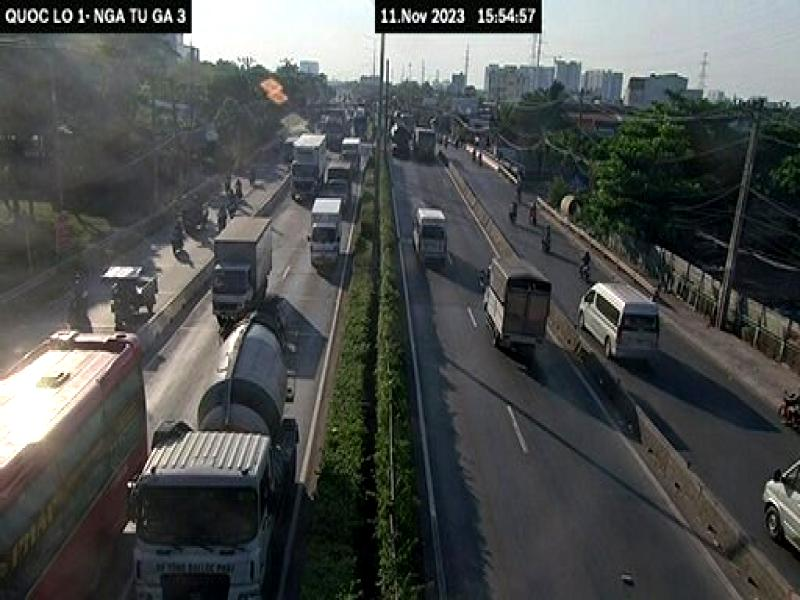bus: (0, 327, 153, 600)
truck: (132, 302, 304, 600), (210, 212, 275, 326), (482, 255, 552, 360), (308, 193, 342, 272), (291, 130, 325, 200)
